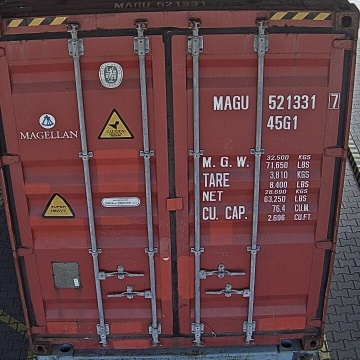serial_id: (214, 93, 339, 109)
